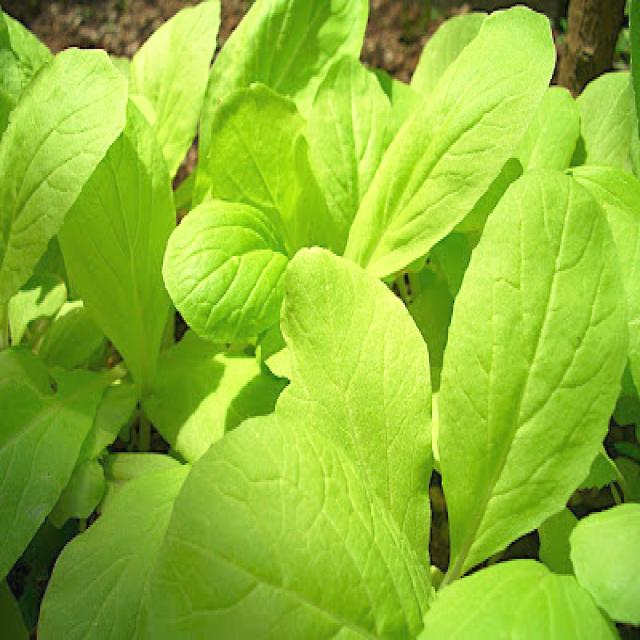chinese_cabbage: (52, 1, 622, 620)
